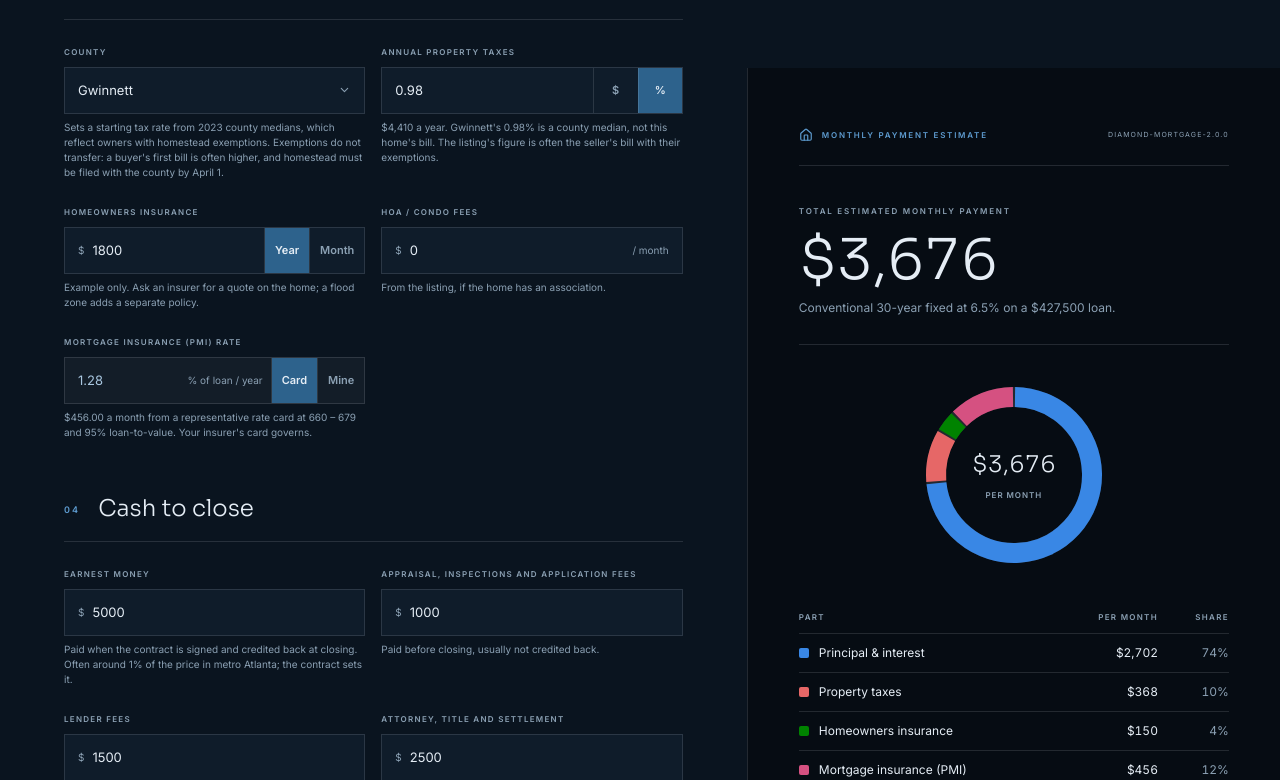
Test: PMI comes from the credit band and LTV, says so, ends at 78%, and can be overridden
Later steps or results of the test are not shown.
(page scrolled)
Click the button "Mine" at x=341, y=380, box [317, 358, 364, 403]
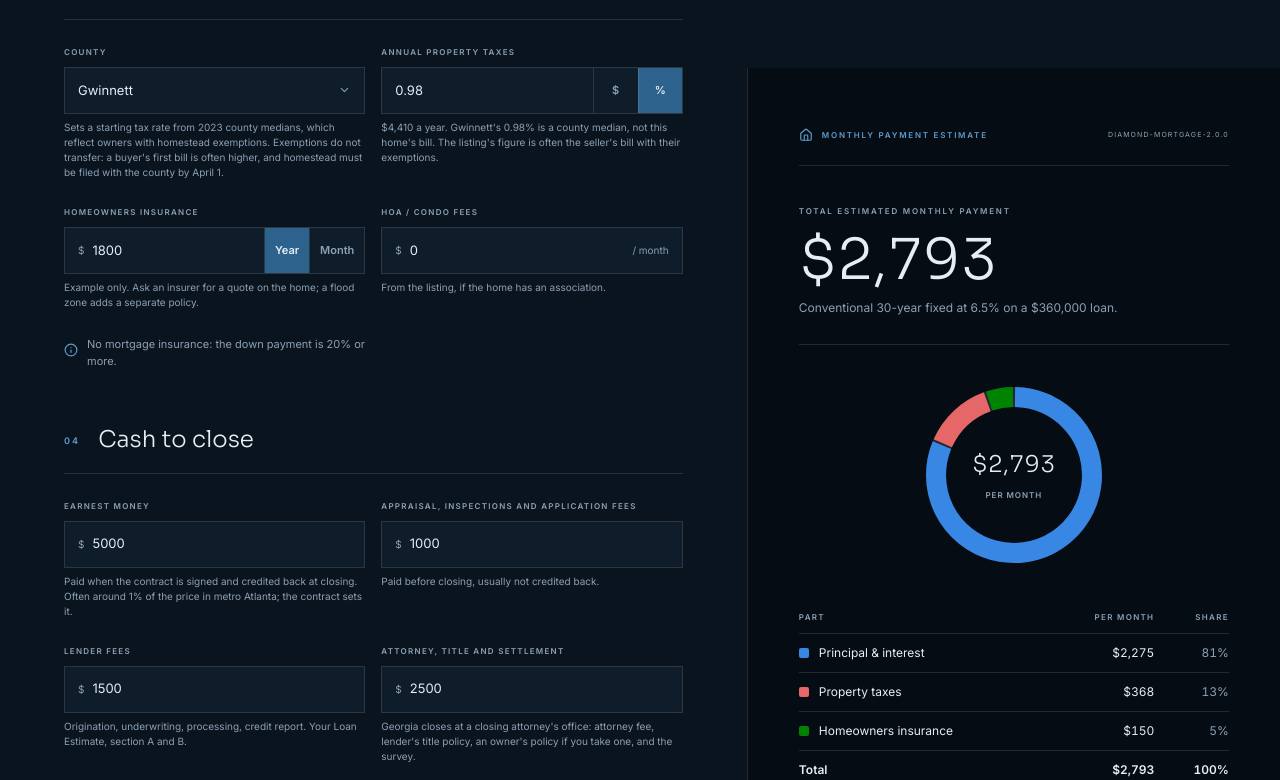
Expected: the text "No mortgage insurance: the down payment is 20% or more." is shown, [64, 336, 365, 371]
